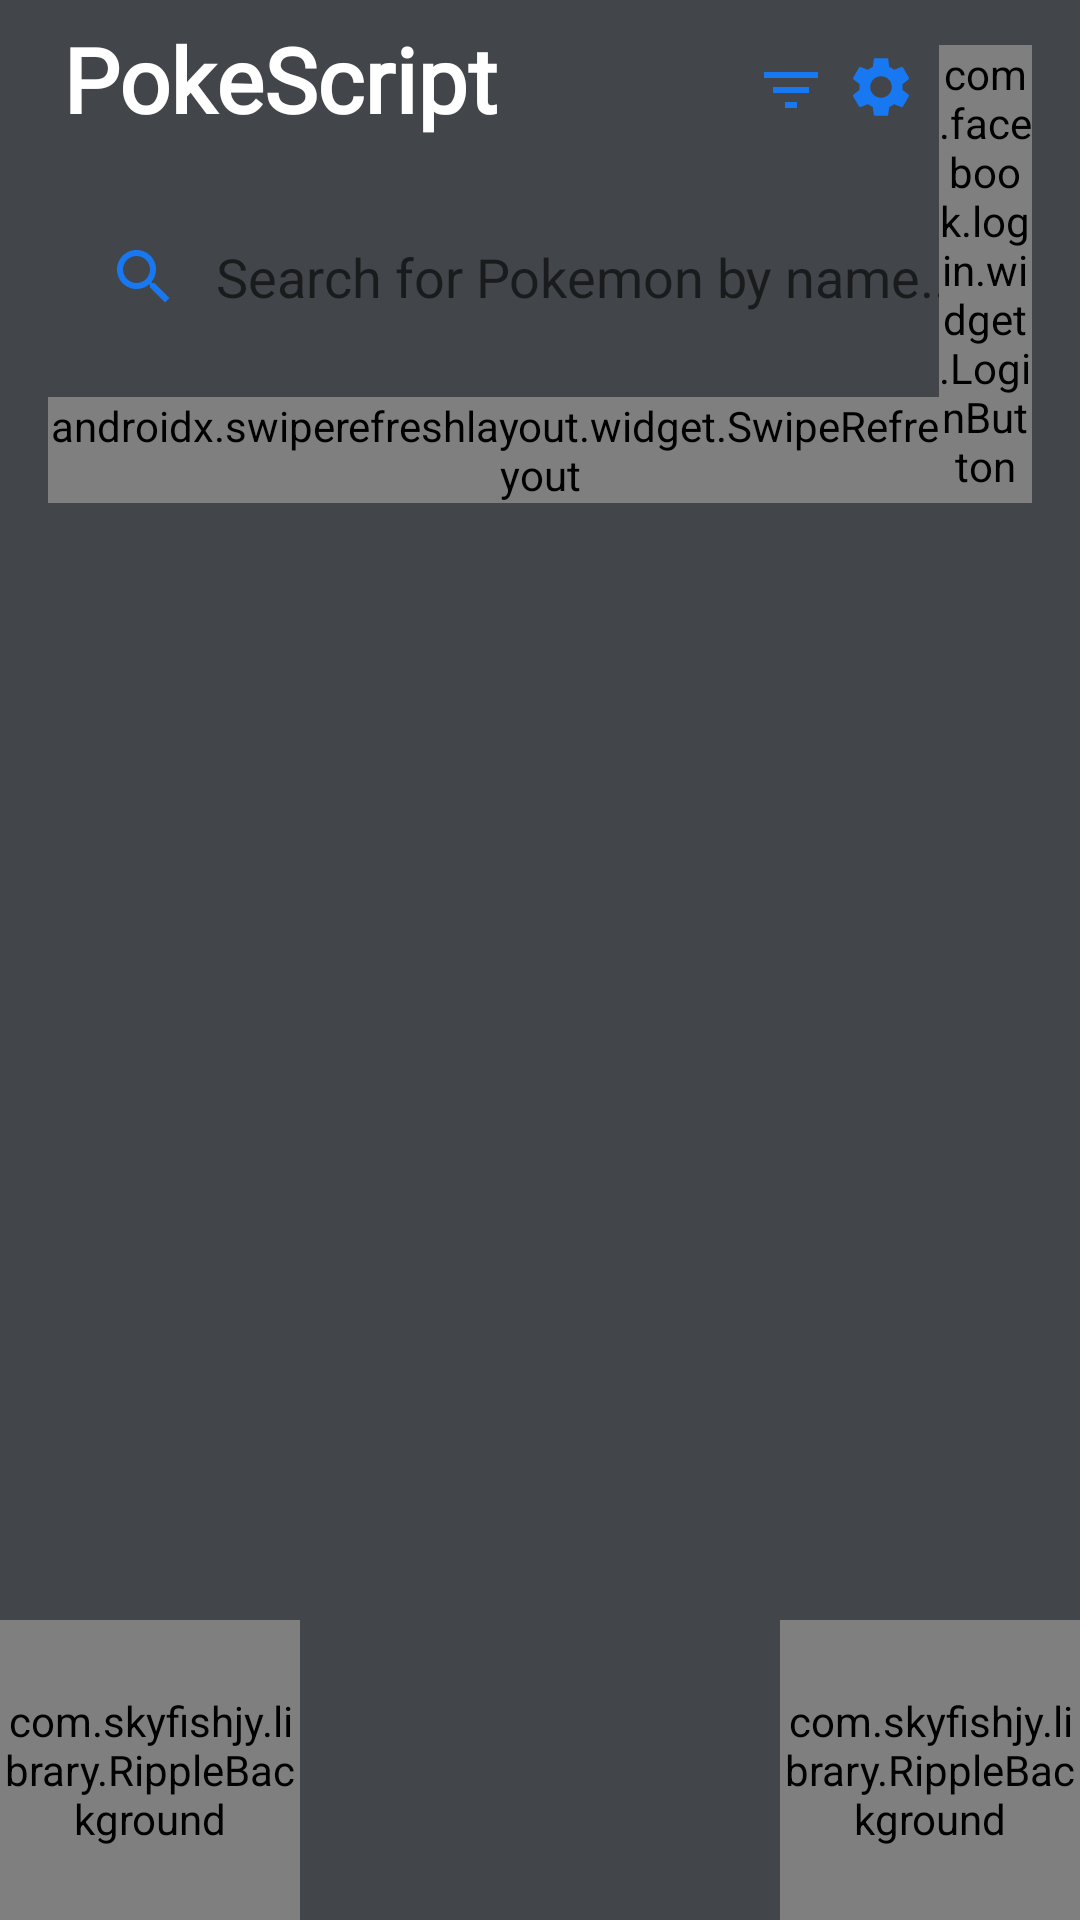

Named icons in this screenshot (1080*1920) and their bounding boxes, (x1, y1, x2, y2):
Filter Pokemon by type: (764, 72, 818, 108)
Settings for pokemon: (853, 58, 909, 116)
